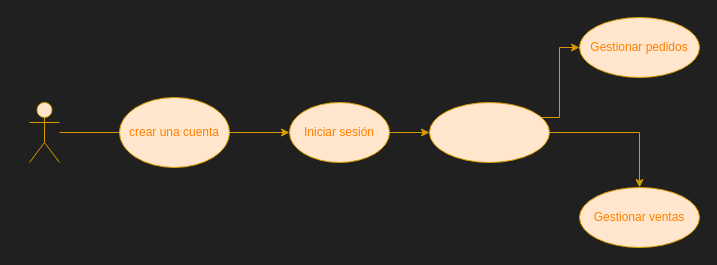
Image size: 717x265. Some labels were removed from this diagram. Each missing label, with the centre of its shape:
"Acceder al panel del empleado" belongs at point 489,132.
"Empleado" belongs at point 44,132.
